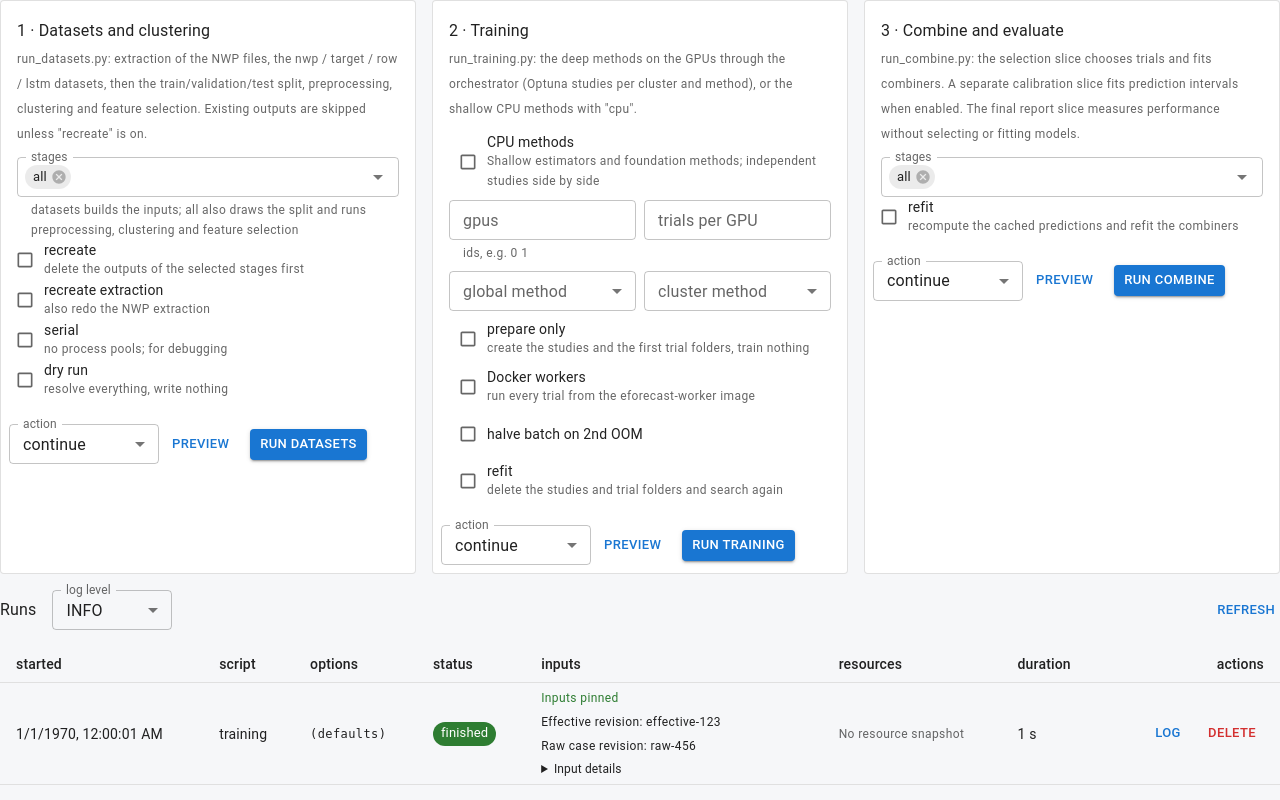
Test case: run actions and failures › shows pinned input provenance in the run list and log
Expected: the text "Inputs pinned" is shown, top-left (541, 691), bottom-right (619, 705)
Expected: the text "Effective revision: effective-123" is shown, top-left (541, 715), bottom-right (721, 729)
What coordinates should you click on to do the following:
click the button "Log"
I would click on:
 (1168, 734)
Its box is top-left (1136, 718), bottom-right (1200, 749).
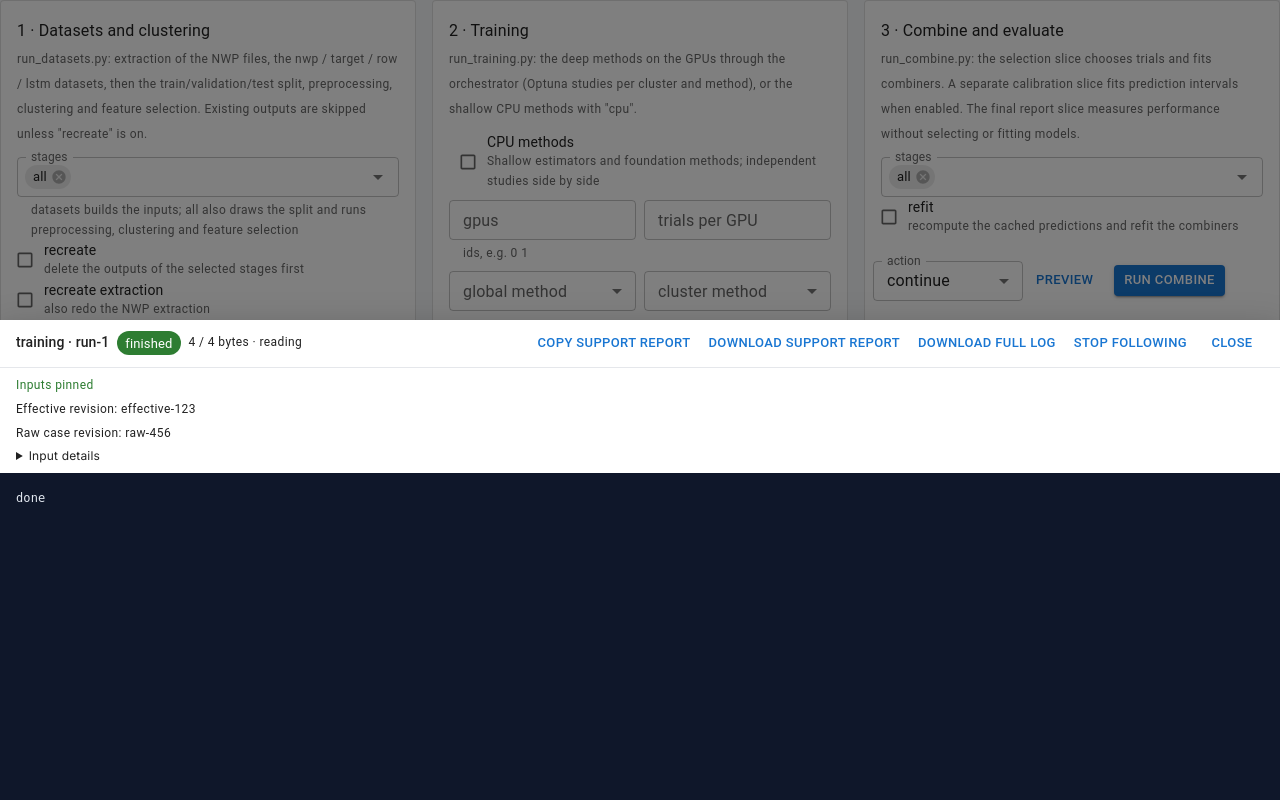
Expected: the text "done" is shown, top-left (0, 474), bottom-right (1279, 799)
Expected: the text "Inputs pinned" is shown, top-left (16, 378), bottom-right (94, 392)
